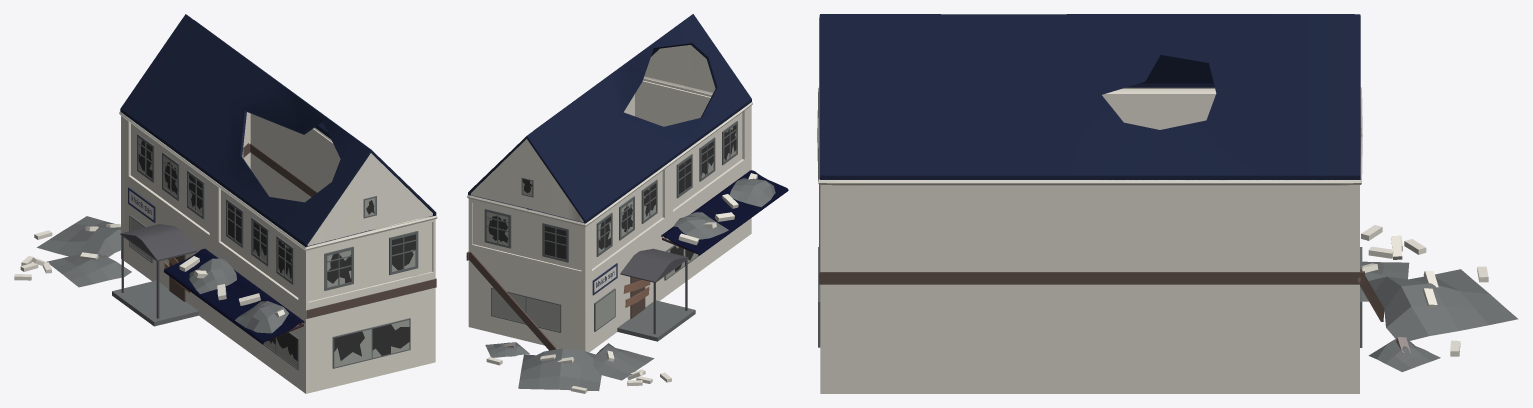
Rendered from Hotel.fbx.
The picture shows the model from 3 angles, left to right: view 1: azimuth 30°, elevation 25°; view 2: azimuth 150°, elevation 25°; view 3: azimuth 270°, elevation 25°; orthographic projection. The views are drawn at different scales.
Parts seen in each view (by area): view 1: Hotel; view 2: Hotel; view 3: Hotel.
Part boxes in pixels (x1,y1,x2,y2): Hotel: (14, 14, 437, 393); Hotel: (466, 14, 788, 393); Hotel: (817, 14, 1518, 393).
Size of the model in its own units: 693 by 656 by 1233.
